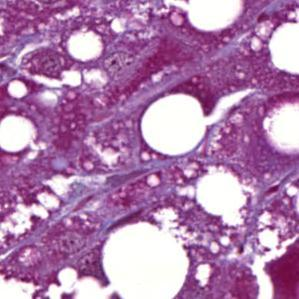steatosis: (141, 93, 212, 154)
